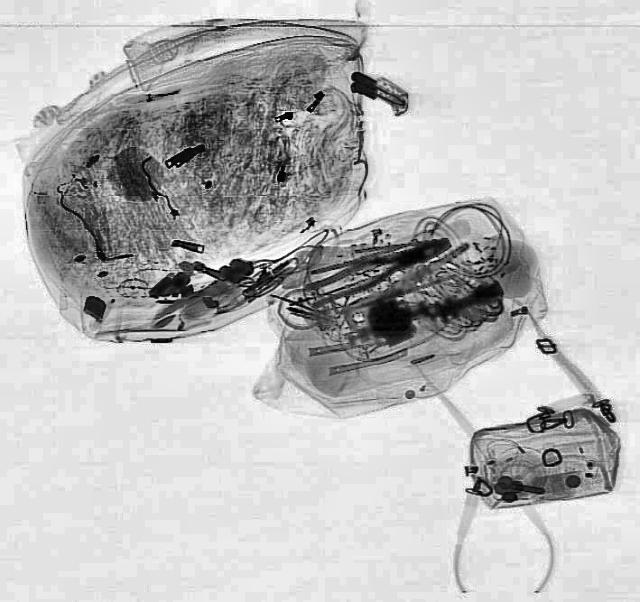Pliers: (300, 229, 454, 309)
